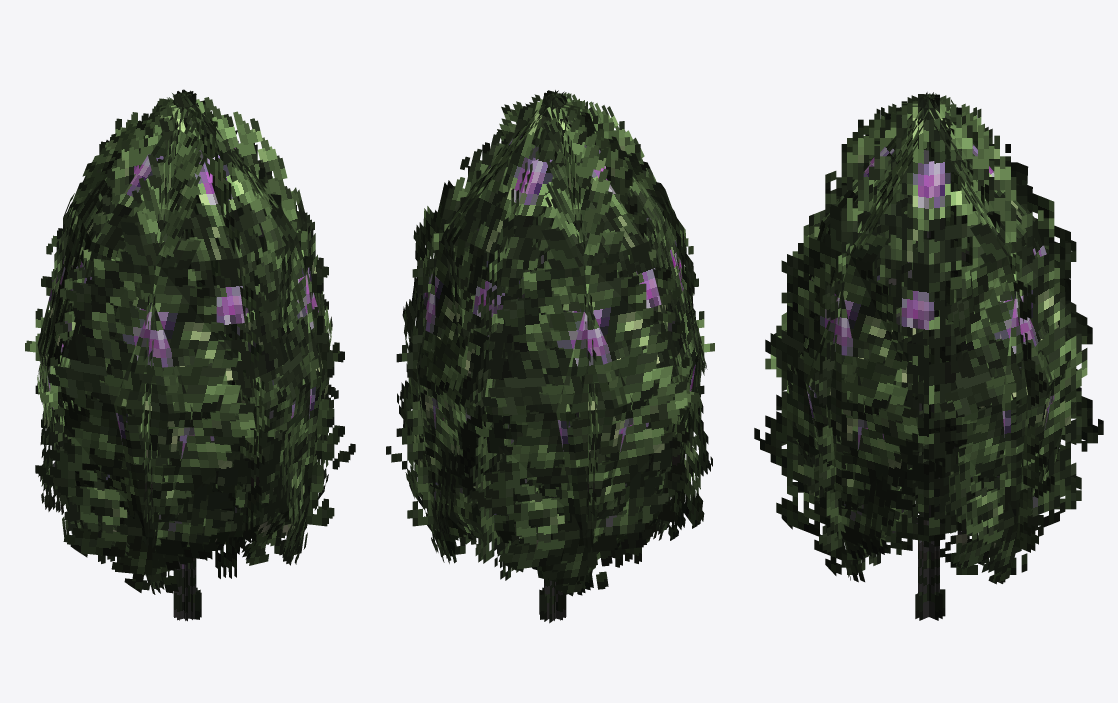
The model's file is bush04_spring2.glb.
3 renders of one model, left to right at view 1: azimuth 30°, elevation 25°; view 2: azimuth 150°, elevation 25°; view 3: azimuth 270°, elevation 25°, orthographic.
Visible parts, largest first — view 1: bush04; view 2: bush04; view 3: bush04.
Boxes of the visible parts, x1=… form: bush04: x1=25, y1=89, x2=355, y2=621; bush04: x1=386, y1=90, x2=714, y2=623; bush04: x1=754, y1=92, x2=1103, y2=620.
Size of the model in its own units: 0.9 by 1.5 by 0.9.
Materials: 1 (1 with a texture image).
